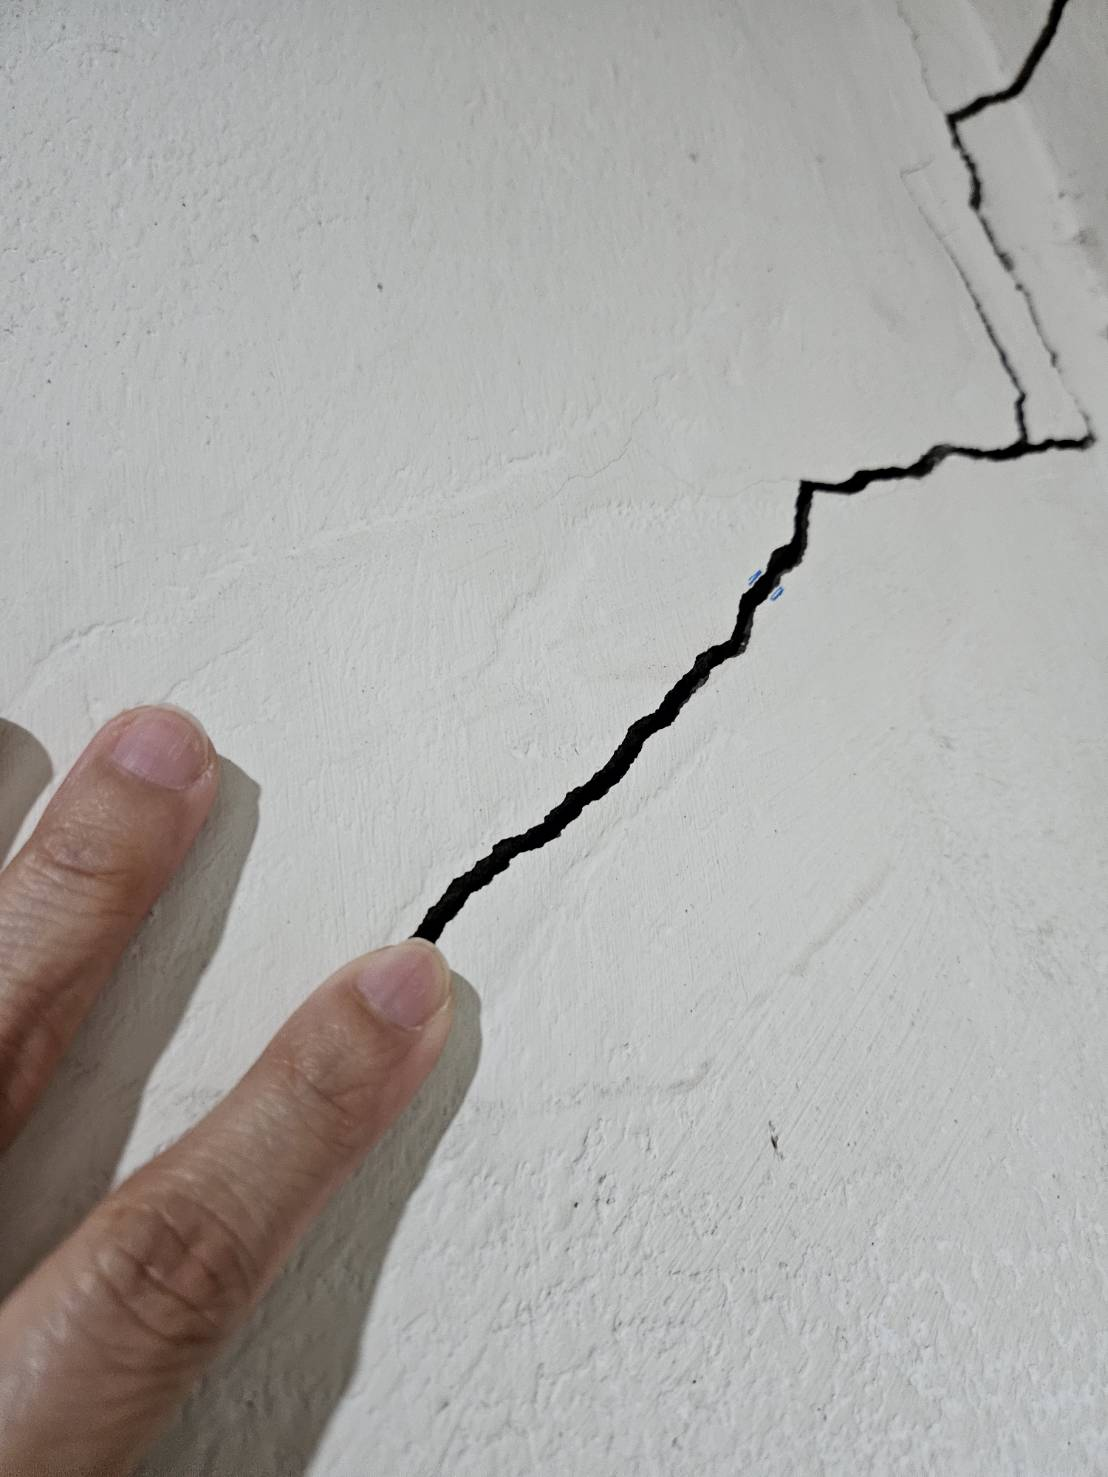Medium: (483, 402, 1036, 908)
